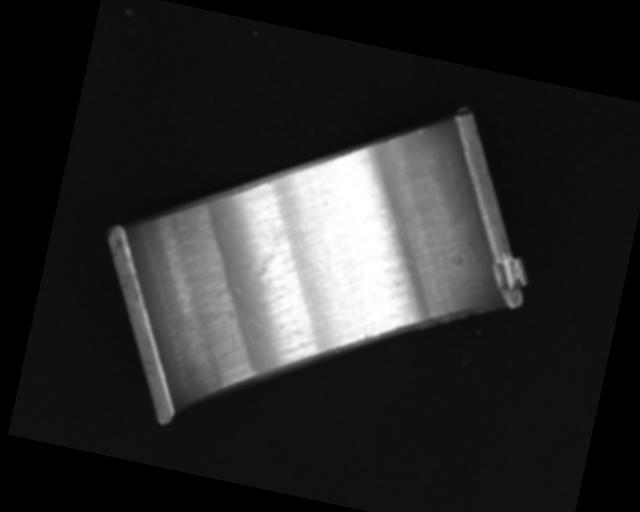nick: (417, 127, 429, 142)
